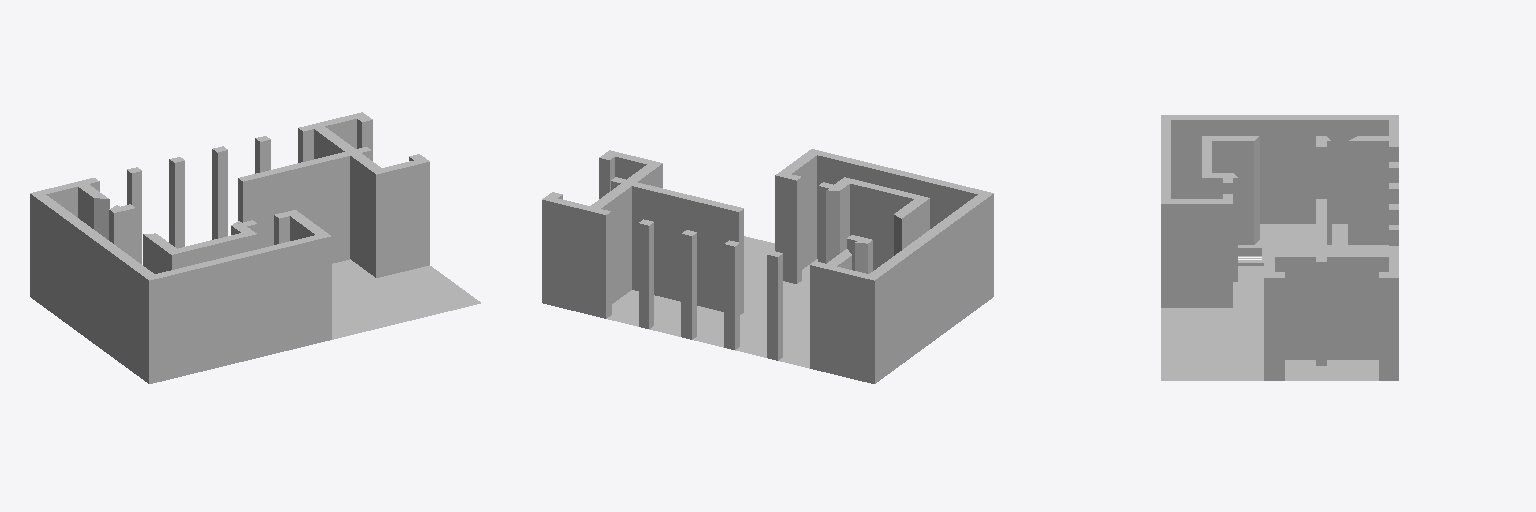
Rendered from trapichePlano.obj.
The picture shows the model from 3 angles: view 1: azimuth 30°, elevation 25°; view 2: azimuth 150°, elevation 25°; view 3: azimuth 270°, elevation 25°; orthographic projection.
Visible parts, largest first — view 1: Plane; view 2: Plane; view 3: Plane.
Part boxes in pixels (x1,y1,x2,y2): Plane: (30,112,480,383); Plane: (542,149,993,383); Plane: (1161,115,1398,380).
Bounding box in the file's own units: 34.32 × 11.75 × 21.36.